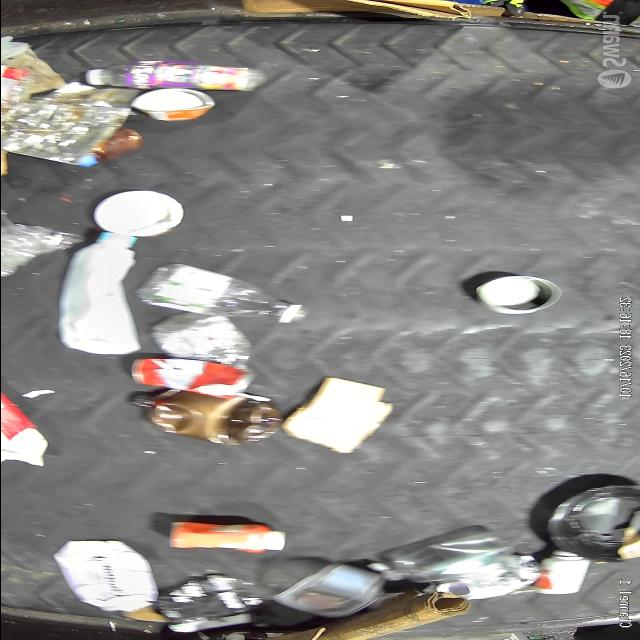can: (438, 552, 540, 600), (132, 358, 256, 394), (475, 276, 559, 314), (130, 88, 216, 121)
milk_jug: (58, 232, 137, 355)
plastic_bottle: (134, 261, 310, 325)
